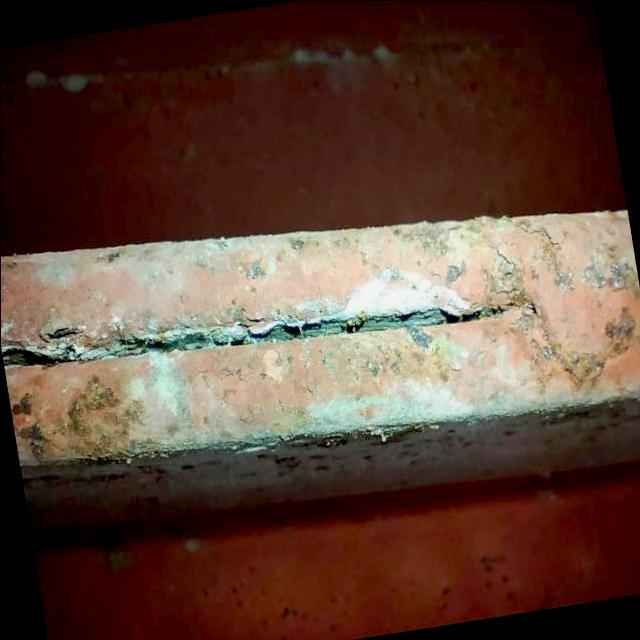defect: (0, 299, 513, 373), (509, 218, 563, 251), (483, 239, 526, 275)
